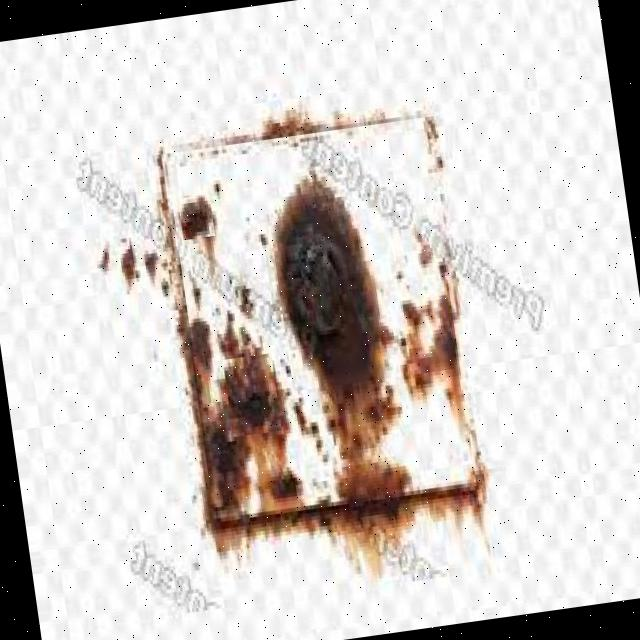Corrosion: (76, 74, 576, 614)
